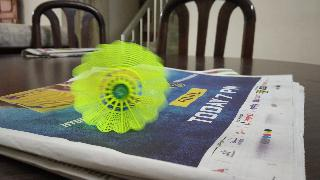shuttlecock: (71, 40, 169, 134)
